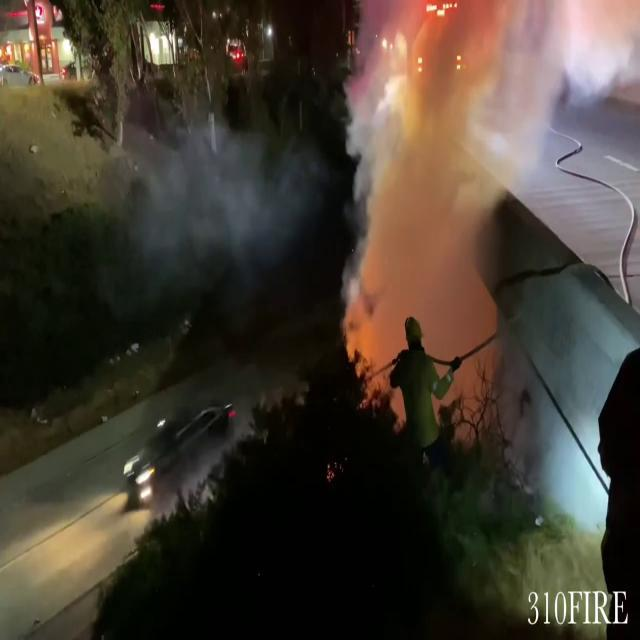Smoke: (341, 1, 584, 427), (128, 92, 322, 270)
